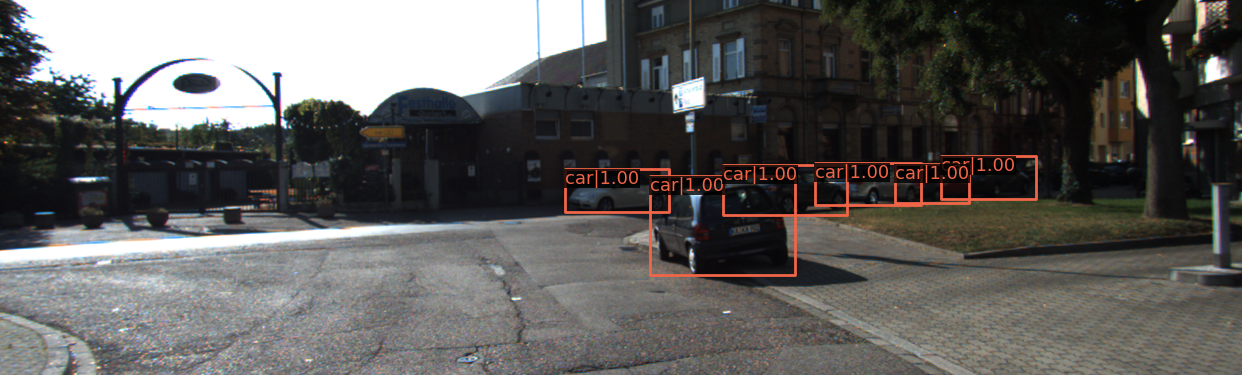car: (652, 180, 794, 273), (737, 167, 851, 218), (567, 170, 667, 213), (822, 165, 919, 208), (950, 158, 1034, 198), (904, 167, 977, 202)
